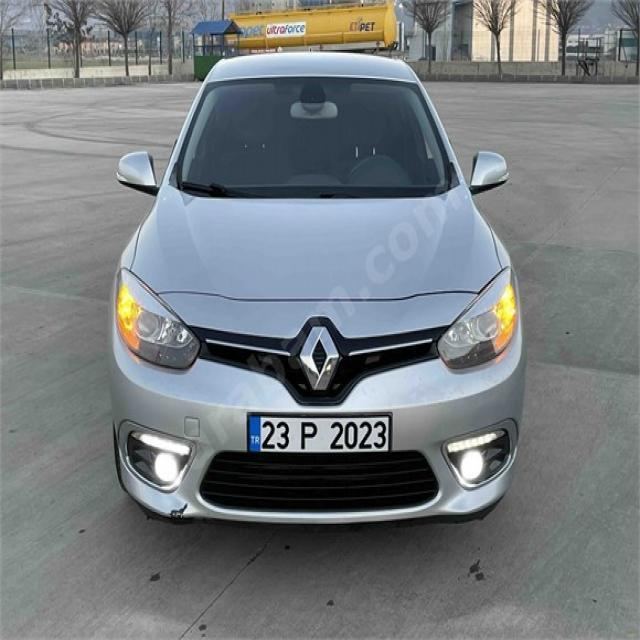plate: (245, 411, 394, 456)
